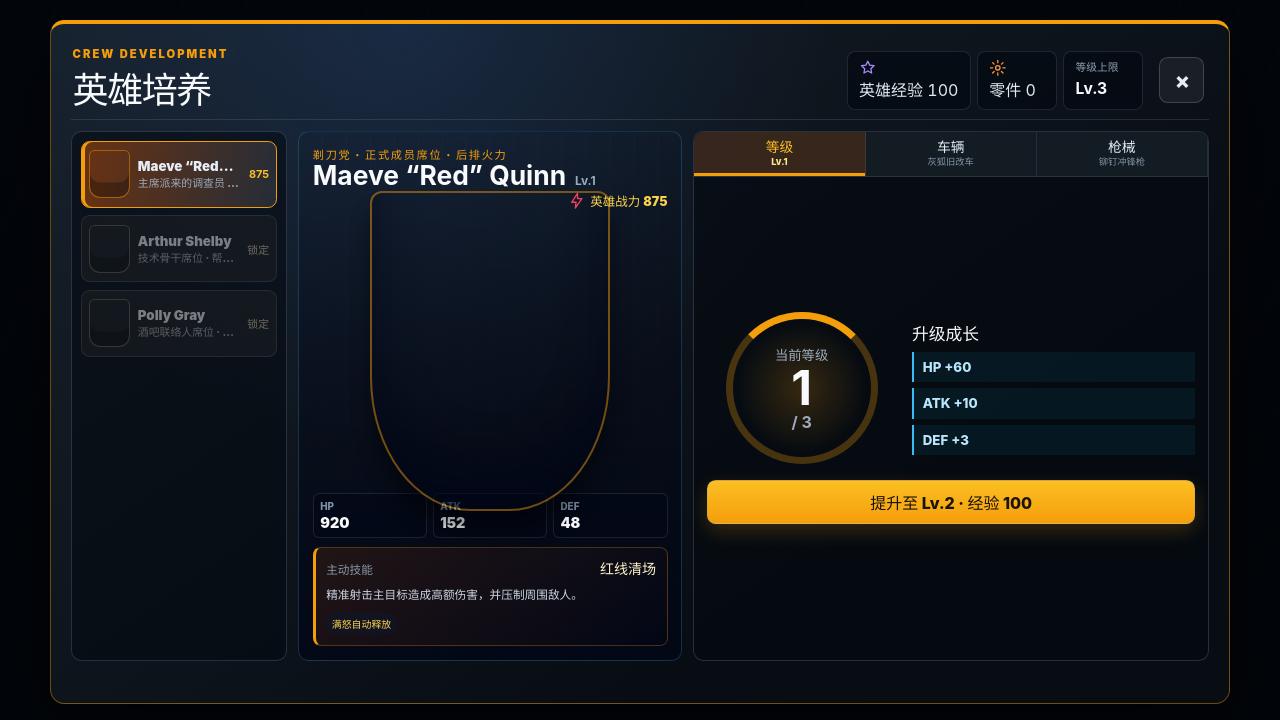
HeroesPanel › upgrades the first combat hero spending shared exp when cap allows
The width and height of the screenshot is (1280, 720).
Click the button "提升至 Lv.2 · 经验 100" at (951, 502), box x1=707 y1=480 x2=1195 y2=524
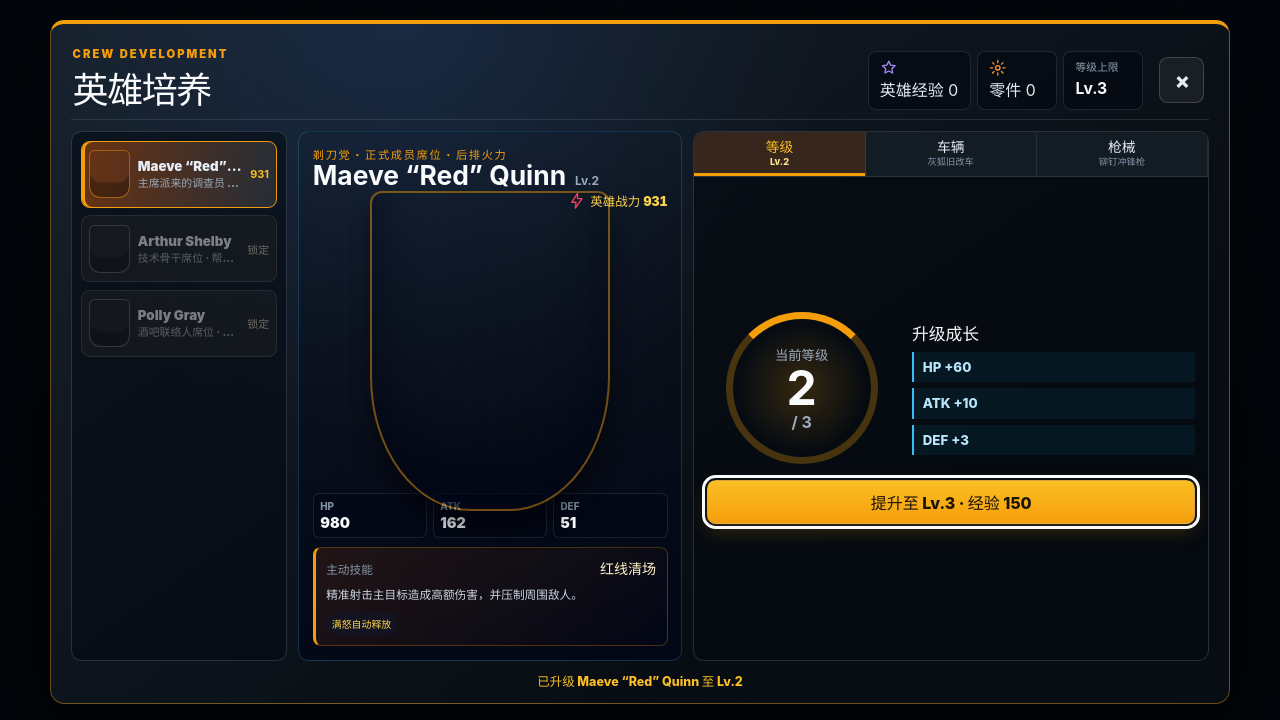
Check: the message reads "已升级 Maeve “Red” Quinn 至 Lv.2", box x1=537 y1=674 x2=743 y2=689
